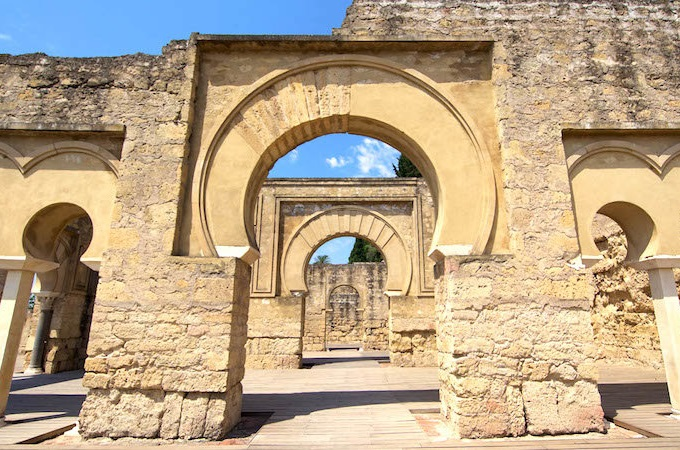arco-herradura: (229, 105, 469, 273), (296, 226, 400, 304), (582, 195, 666, 281), (13, 195, 101, 271)
